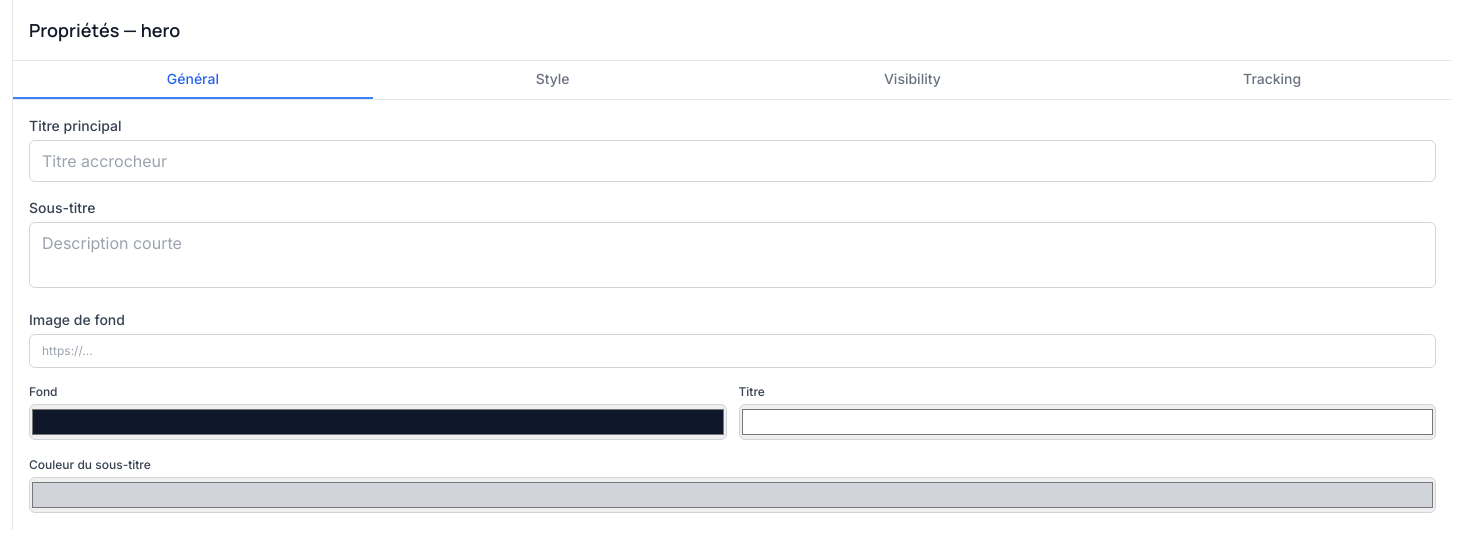
Scenario: PropertiesPanel › affiche la valeur existante du tracking
Click the button "Tracking". click: x=1272, y=80
box: 1092,61 -> 1452,99
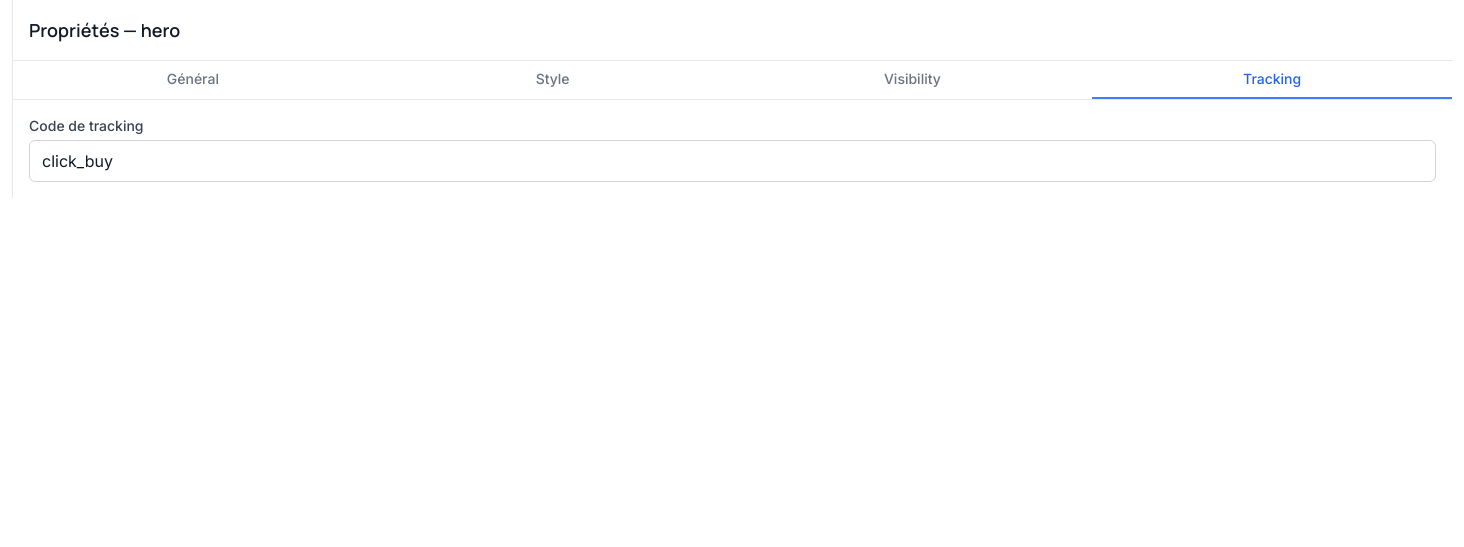
Expected: the field showing "click_buy" is shown, 29,140 -> 1436,182
